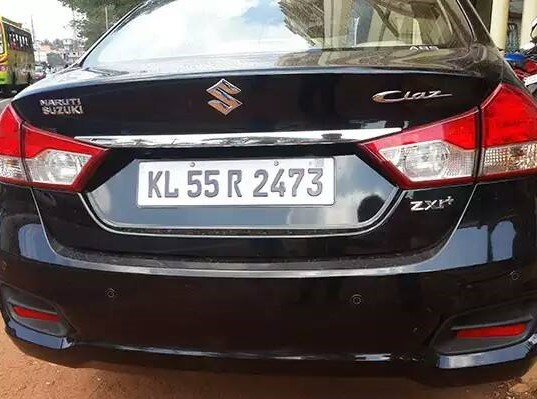KL55R2473: (137, 157, 334, 205)
